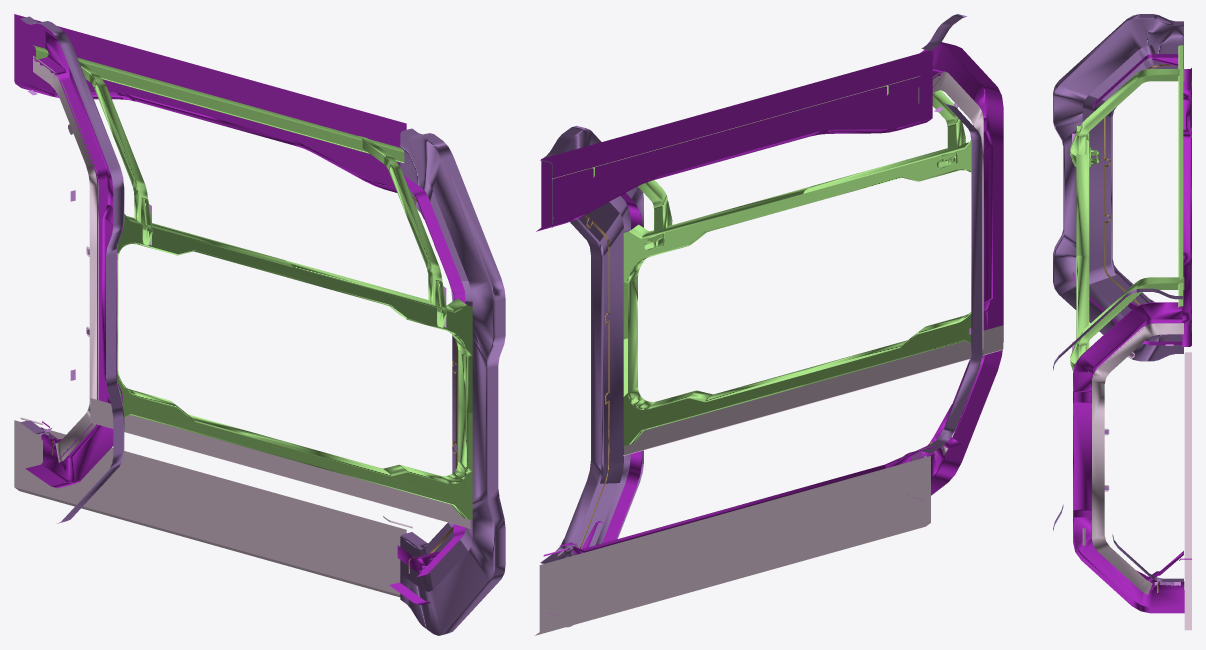
The model's file is ext_roomsm_wall_drop2m_04x02x04_b.glb.
3 renders of one model, left to right at view 1: azimuth 30°, elevation 25°; view 2: azimuth 150°, elevation 25°; view 3: azimuth 270°, elevation 25°, orthographic. The views are drawn at different scales.
Bounding box in the file's own units: 4 × 6.78 × 1.75.
